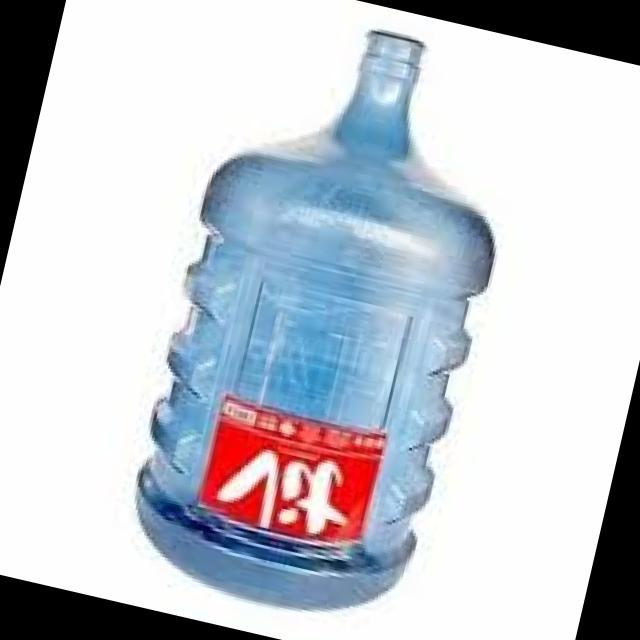Galon: (112, 0, 544, 637)
